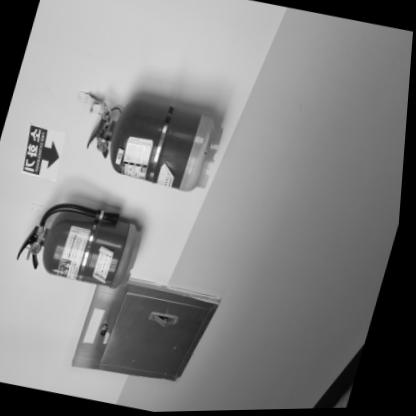FE: (78, 87, 230, 198), (13, 192, 150, 292)
